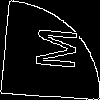M: (25, 25, 78, 71)
